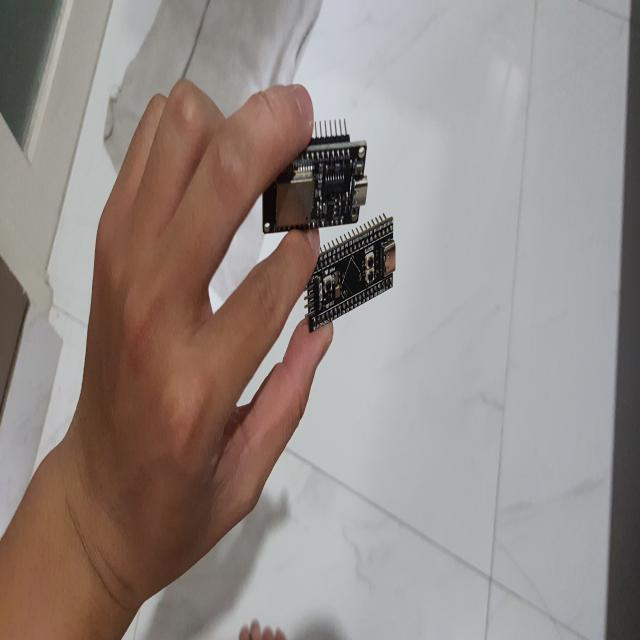ESP32: (264, 122, 367, 234)
STM32: (306, 216, 393, 331)
